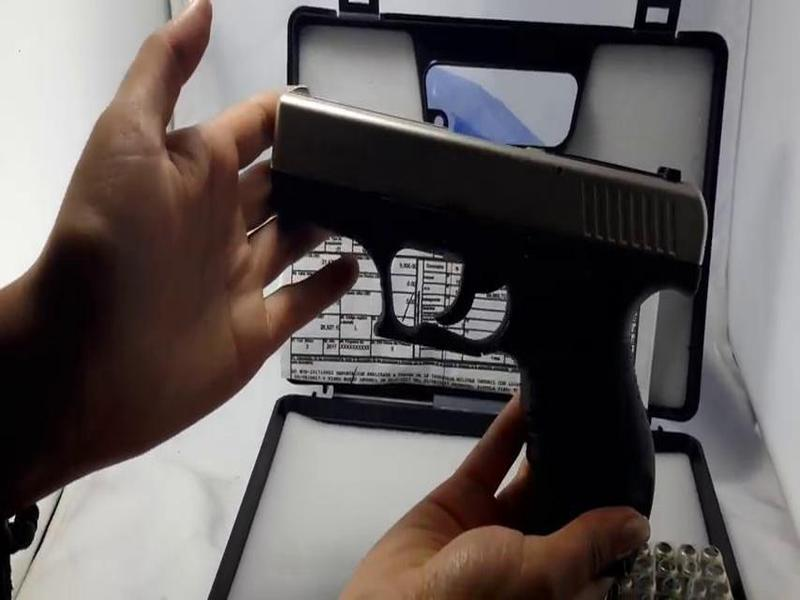Pistola: (236, 83, 717, 543)
